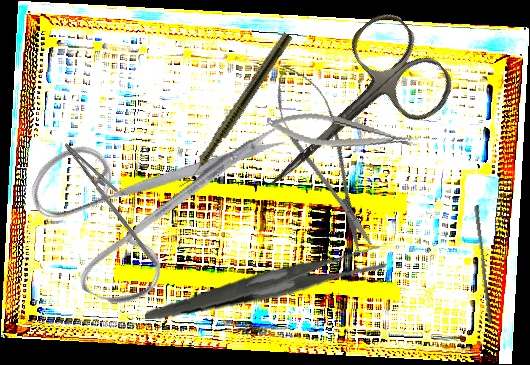Dressing Forceps: (145, 229, 388, 336)
Handpiece: (177, 30, 294, 194)
Iris Scissors: (1, 43, 291, 342), (230, 4, 463, 227)
Micro Scissor: (260, 55, 389, 259)
Needle Holder: (50, 134, 181, 268), (264, 104, 420, 163)
Pusher: (469, 205, 498, 324)
